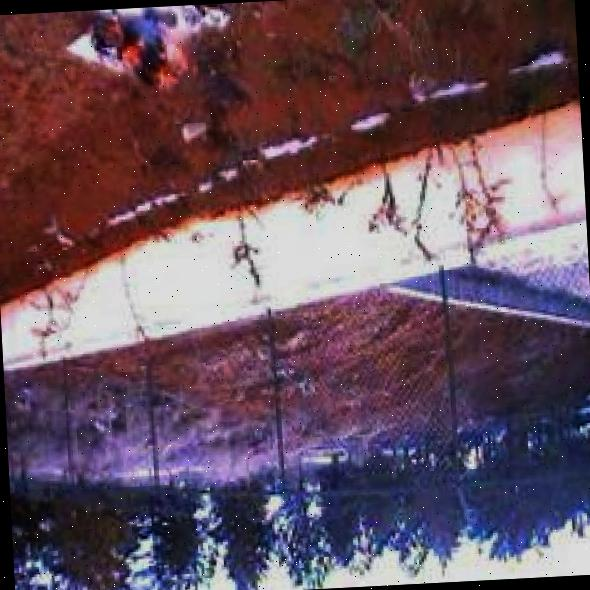fire: (91, 5, 202, 100)
